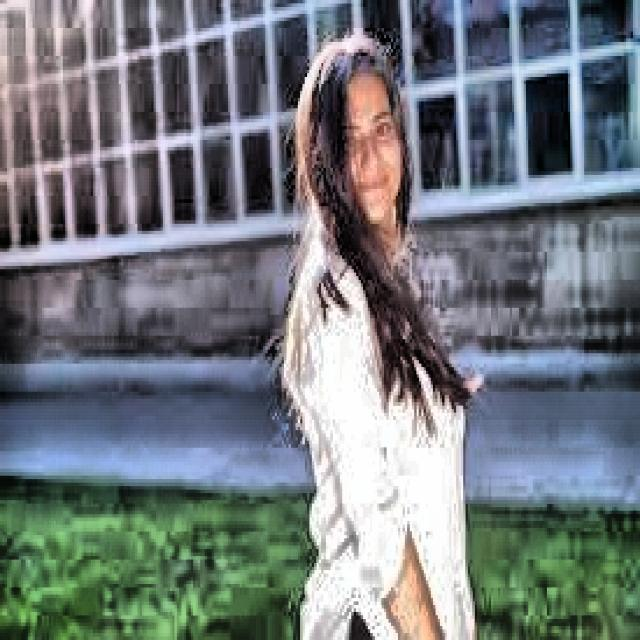Human: (250, 18, 495, 640)
